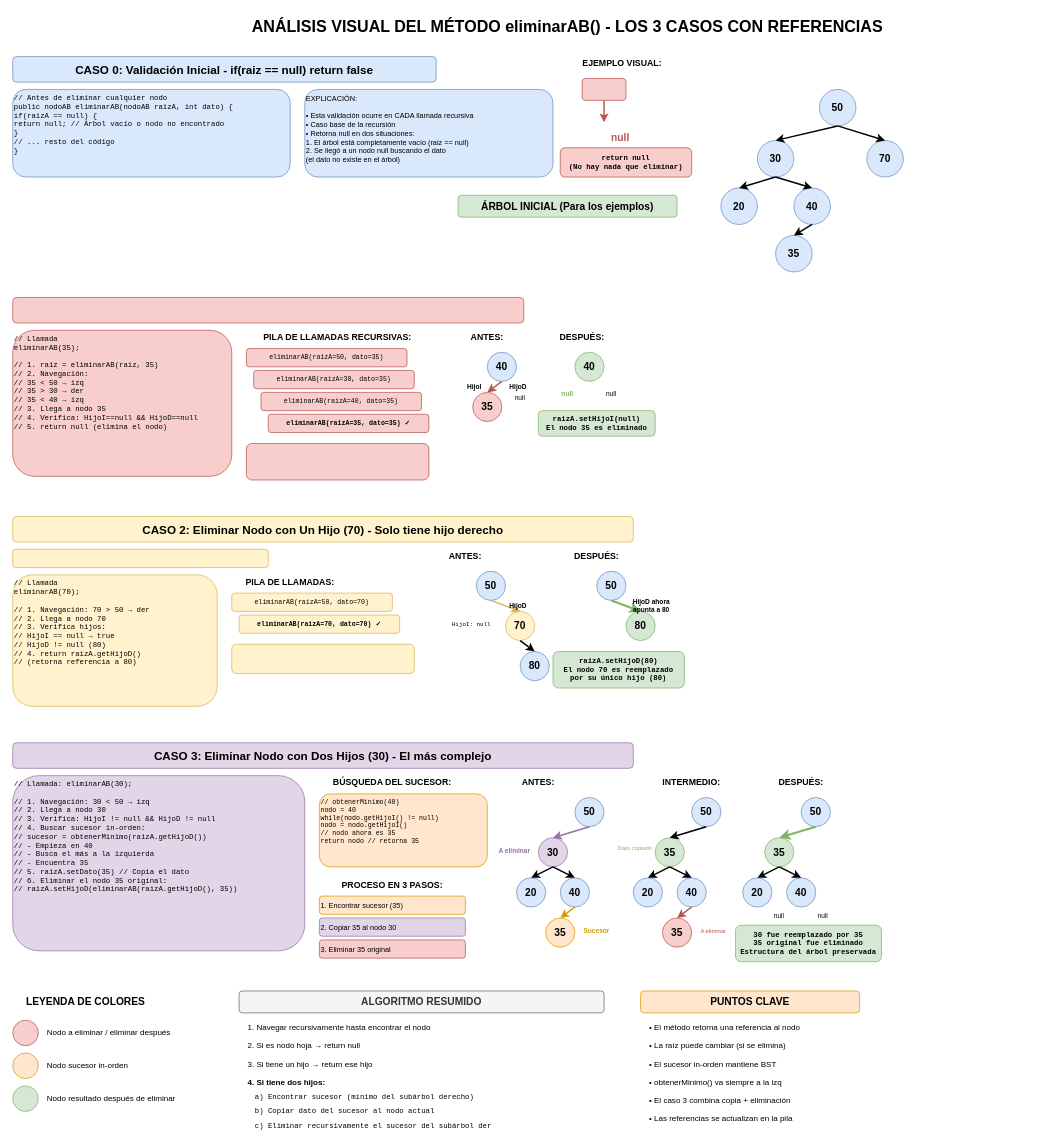
Image size: 1055x1145. Some labels were removed from this diagram. The shapes that lost their labels are listed below. From the top down, each one's centre as x and y in pixels, then its label:
(x=603, y=89): raiz
(x=268, y=310): CASO 1: Eliminar Nodo Hoja (35) - Sin hijos
(x=337, y=461): if(raizA.getHijoI() == null && raizA.getHijoD() == null) return null;
(x=140, y=558): NOTA: Primero insertamos 80 como HijoD de 70
(x=322, y=658): else if(raizA.getHijoI() == null) return raizA.getHijoD();
